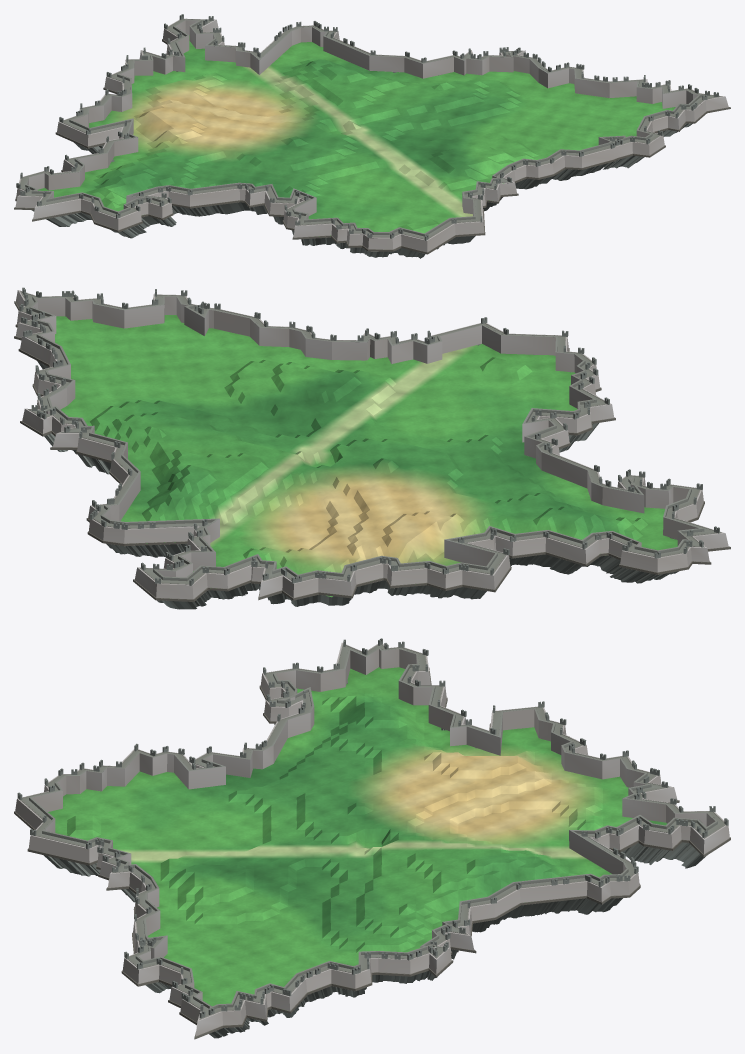
The picture shows the model from 3 angles, top to bottom: view 1: azimuth 30°, elevation 25°; view 2: azimuth 150°, elevation 25°; view 3: azimuth 270°, elevation 25°; orthographic projection. The views are drawn at different scales.
Parts seen in each view (by area): view 1: ground_77617e4b; view 2: ground_77617e4b; view 3: ground_77617e4b.
Boxes of the visible parts, x1=… form: ground_77617e4b: x1=14, y1=14, x2=730, y2=258; ground_77617e4b: x1=14, y1=287, x2=730, y2=609; ground_77617e4b: x1=14, y1=638, x2=730, y2=1039.
Size of the model in its own units: 160 by 7.61 by 126.
3 materials, 1 textured.
